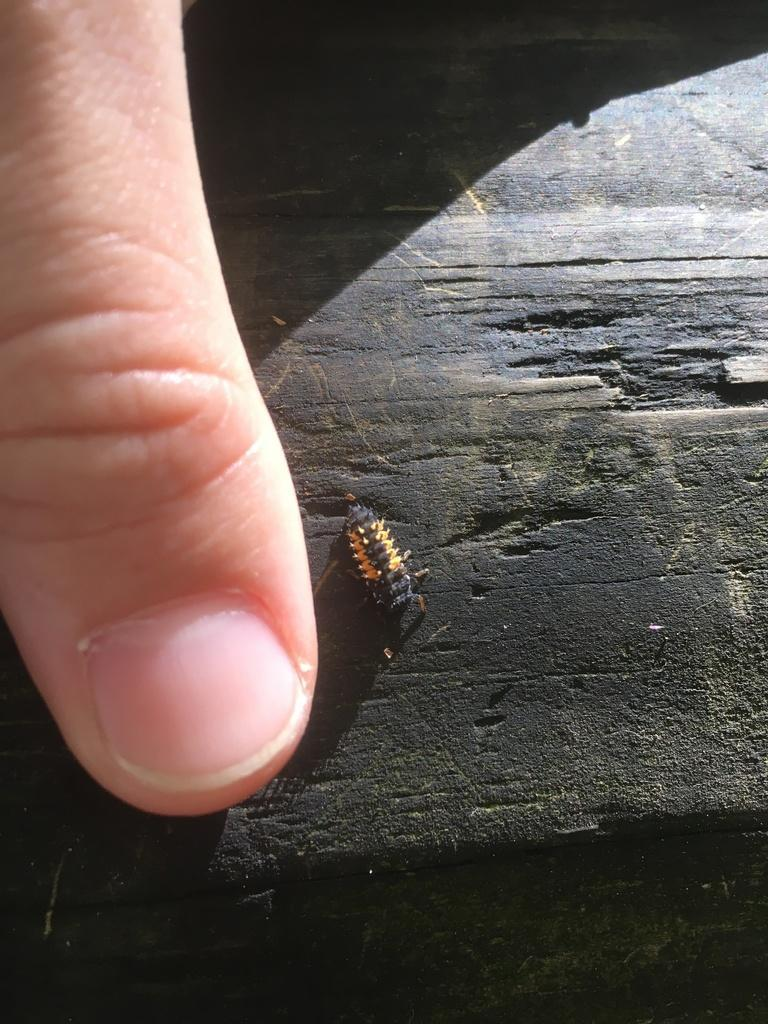ladybug: (341, 496, 436, 621)
